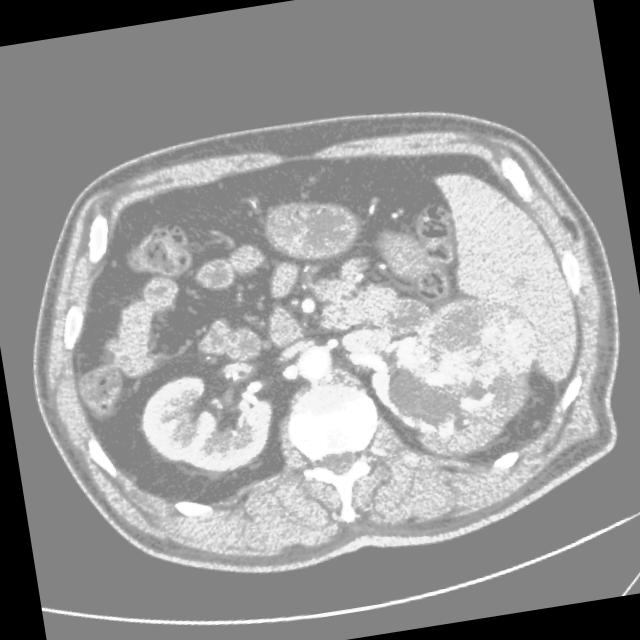TUMOR: (84, 268, 610, 558)
